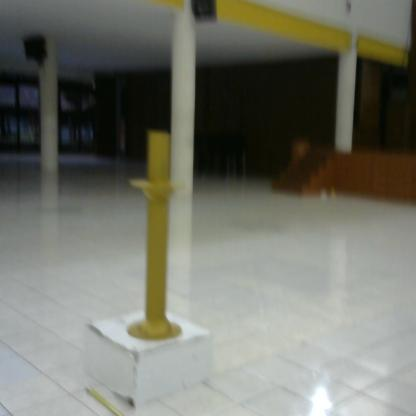pole: (122, 123, 192, 348)
